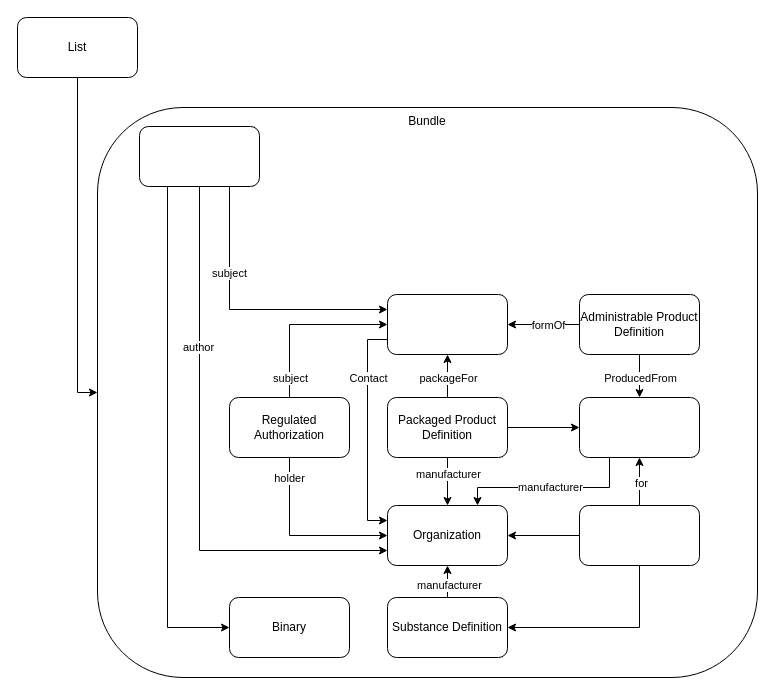
The diagram is 775 pixels wide and 695 high, and some of its shapes have lost their labels. Each missing label, with the box of its shape:
Composition: (138, 126, 260, 186)
Ingredient: (578, 504, 700, 566)
Manufactured Item Definition: (578, 396, 700, 458)
Medicinal Product Definition: (386, 294, 508, 354)
